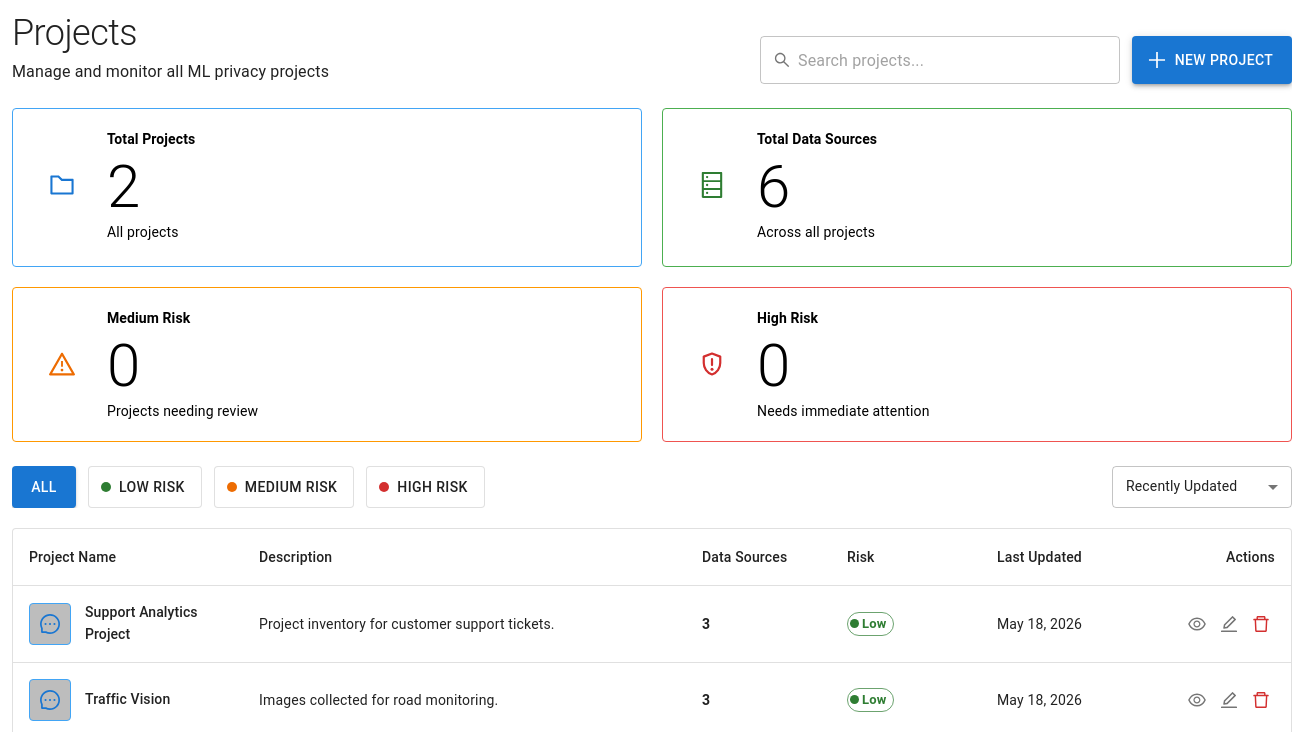
Scenario: Projects page › filters projects by text from name or description
Expected: the heading "Support Analytics Project" is shown, [85,604,198,642]
In the field with placeholder "Search projects...": (959, 60) [798,32,1120,88], type "road"
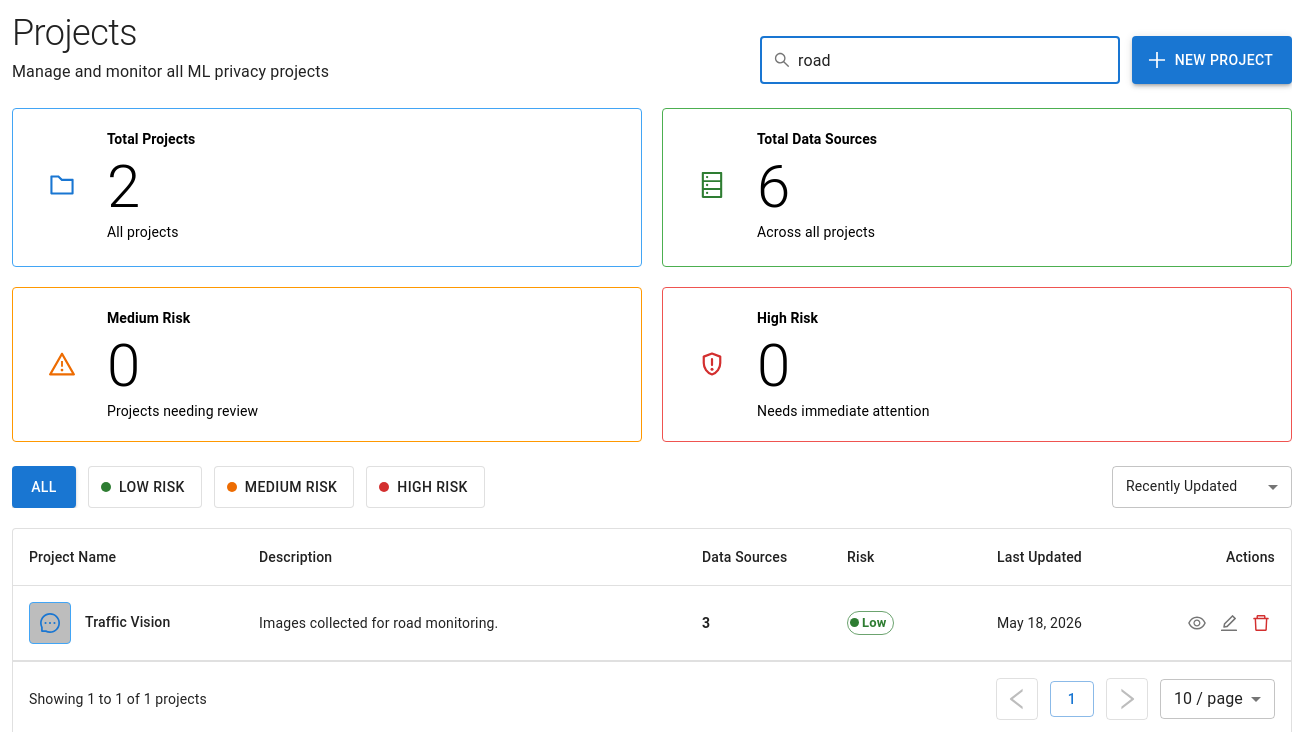
Expected: the heading "Traffic Vision" is shown, [85,612,170,634]
Expected: the heading "Support Analytics Project" is gone
